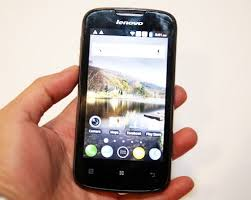lenovo: (71, 4, 176, 194)
